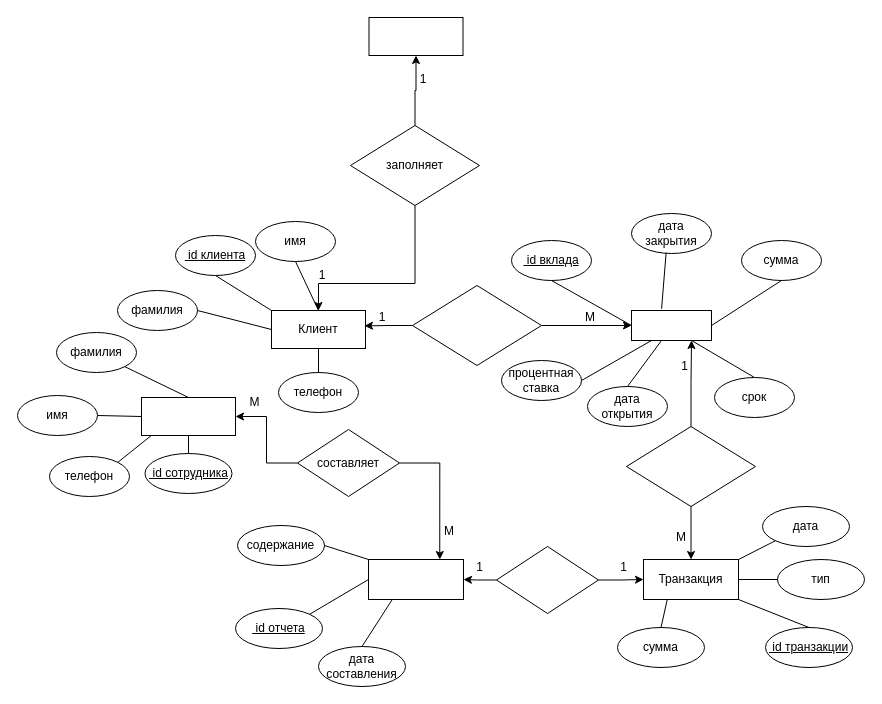
This 882x704 diagram has some shape labels left out. Here are the shapes that lost their labels. From the top down, the box of each, then its label:
(368, 16, 463, 56): Документ
(412, 284, 542, 366): открывает
(630, 310, 712, 340): Вклад
(140, 396, 236, 436): Сотрудник банка
(626, 426, 756, 506): производится
(368, 558, 464, 600): Отчет
(496, 546, 598, 614): составляется
